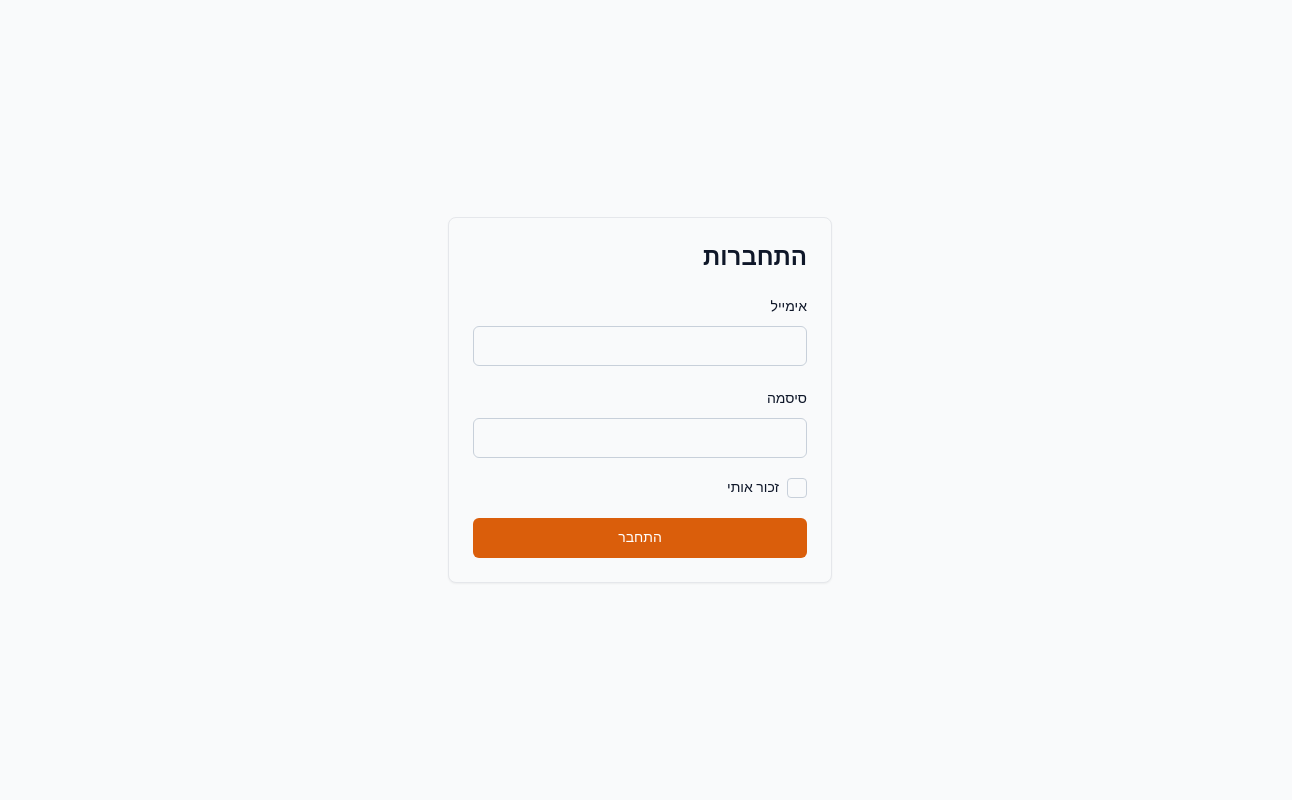
Test: S01 Login › logs chef@dev.local in and lands on /kitchen
Type "chef@dev.local" into the field labelled "אימייל" at (640, 346), box [473, 326, 807, 366]
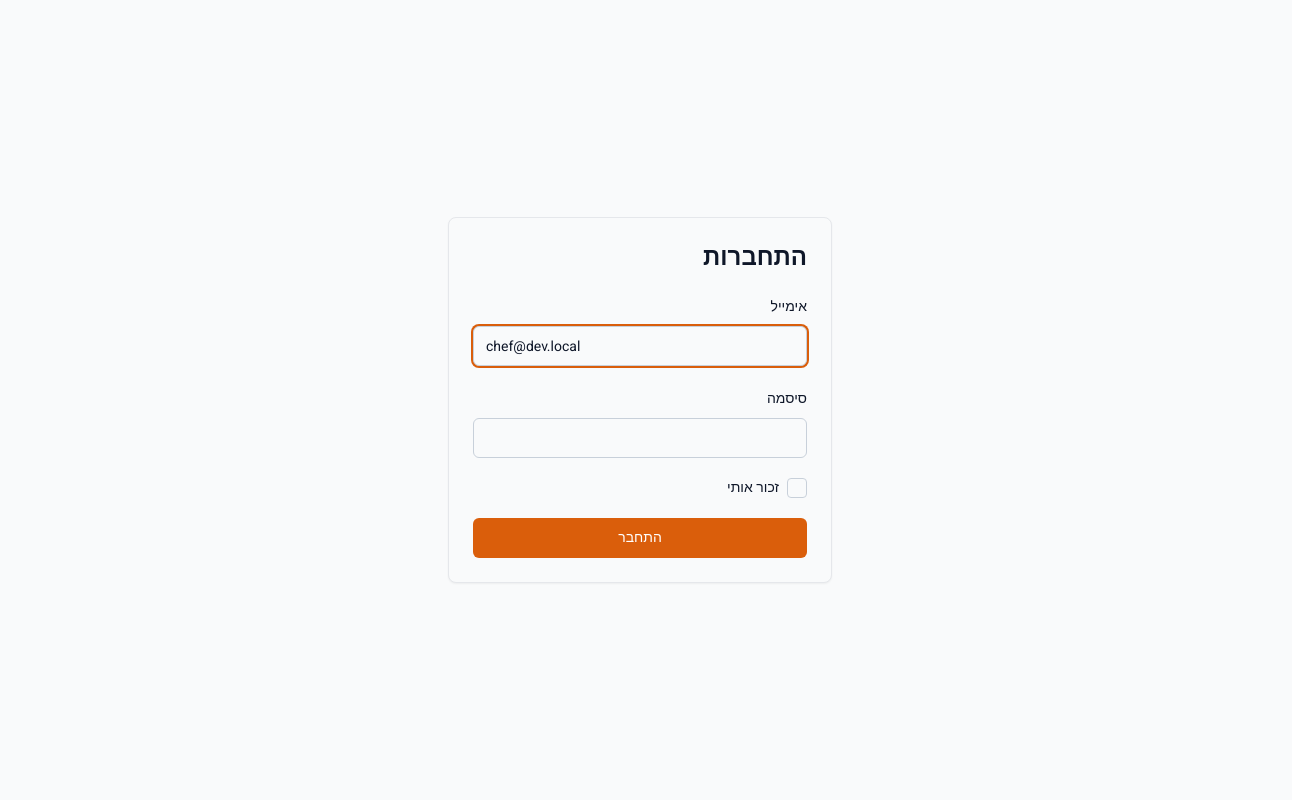
Type "Passw0rd!" into the password field labelled "סיסמה" at (640, 438), box [473, 418, 807, 458]
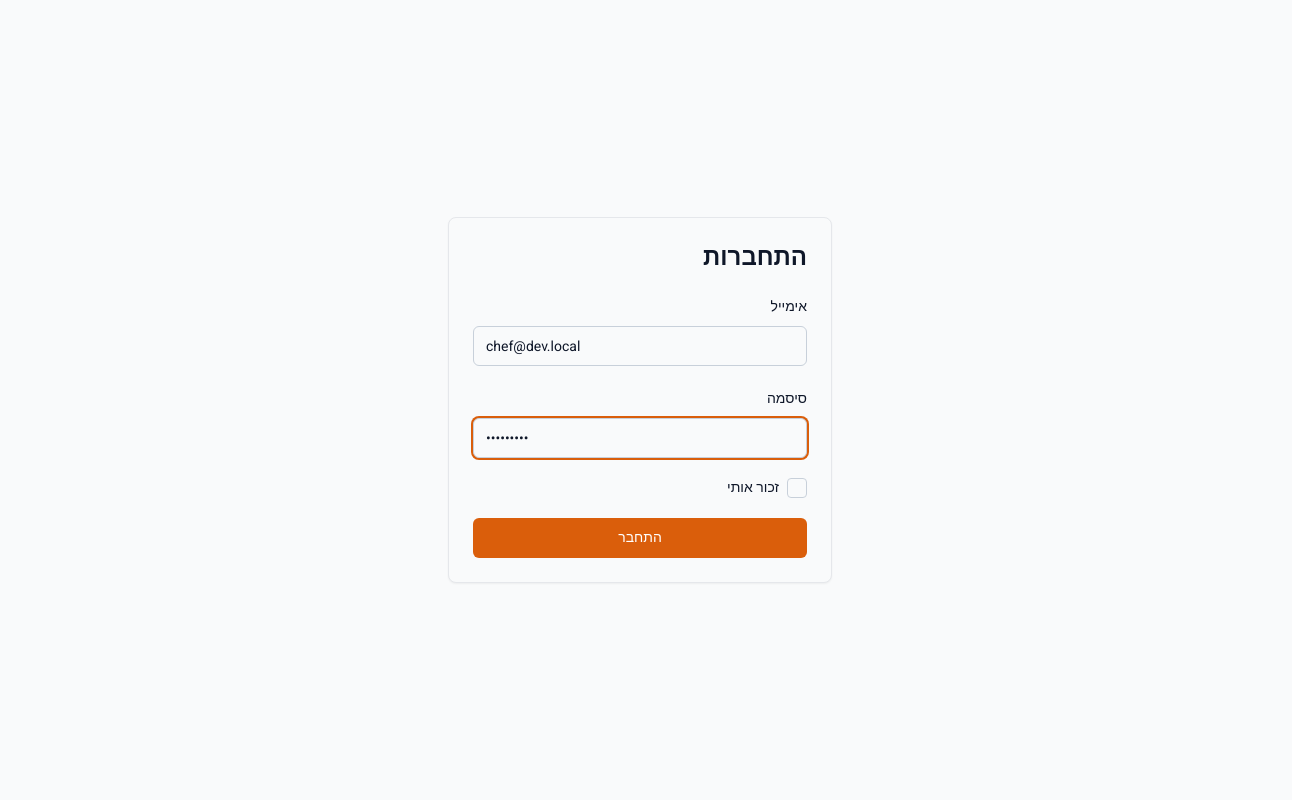
Click the button "התחבר" at (640, 538), box [473, 518, 807, 558]
(page scrolled)
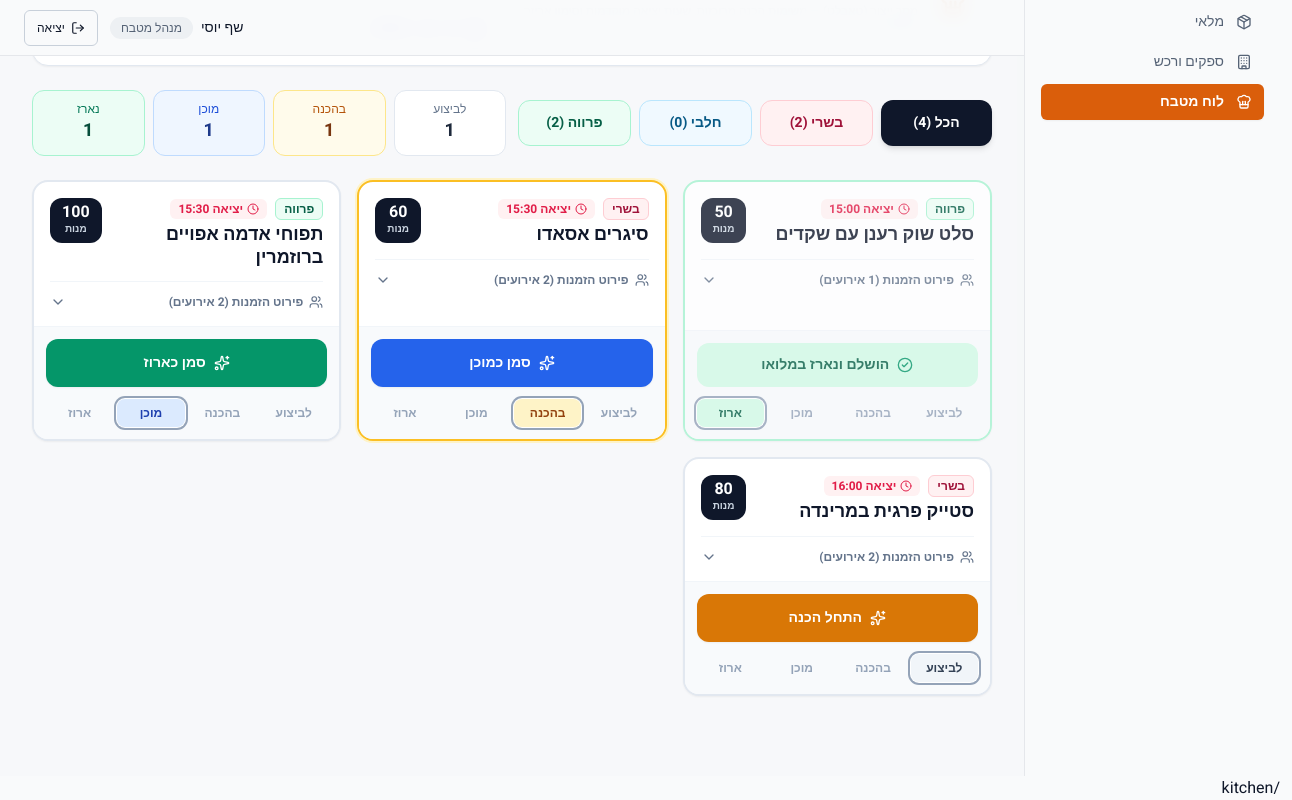
Check: the text with test id "pathname" reads "/kitchen", box [1222, 776, 1280, 799]
